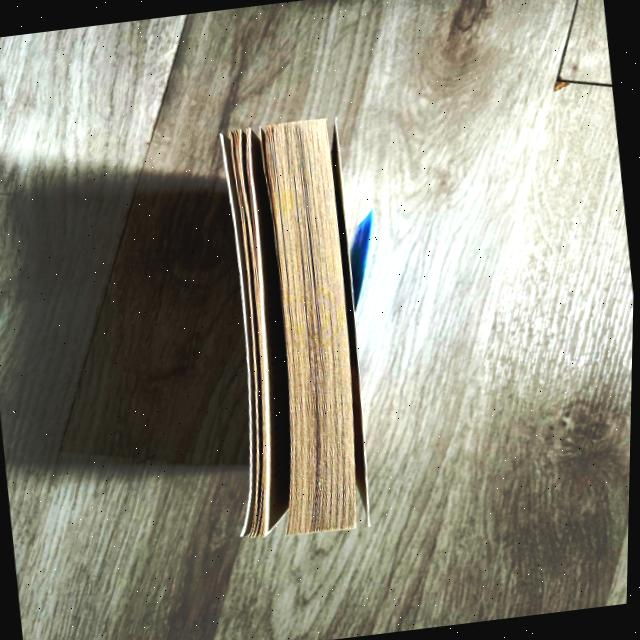Book: (225, 113, 375, 535)
